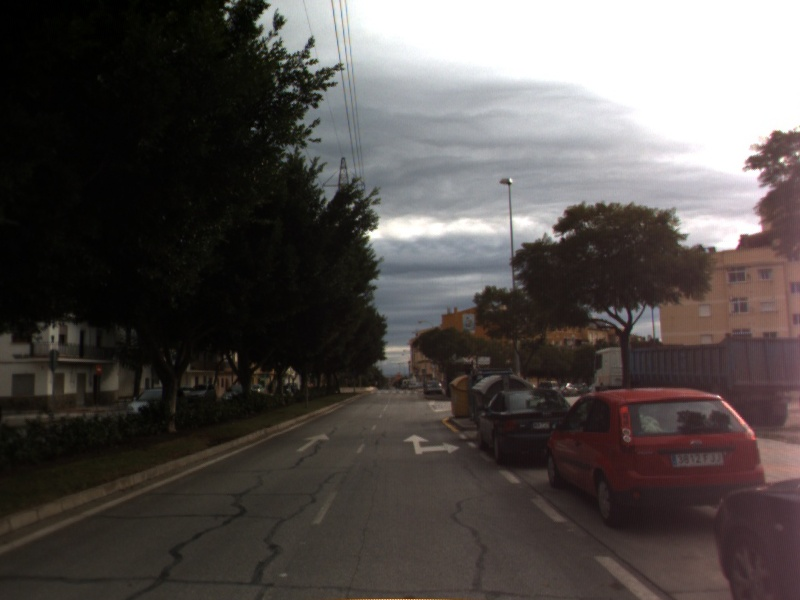STRAIGHT: (294, 430, 332, 454)
STRAIGHT_RIGHT: (401, 432, 462, 457)
